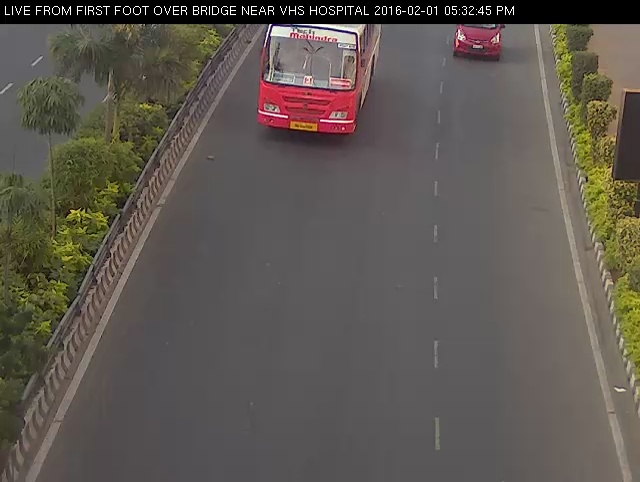Bus: (248, 18, 386, 147)
Car: (447, 18, 511, 67)
